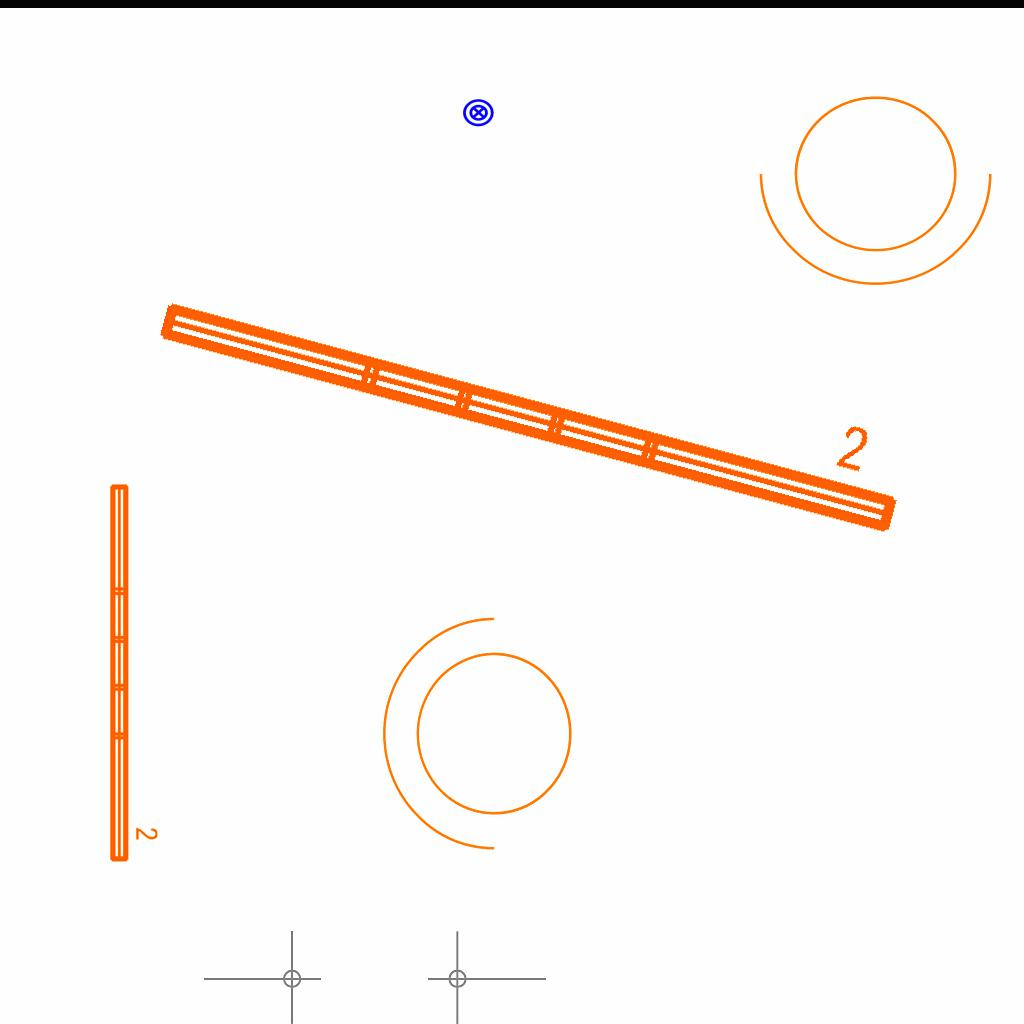Ambulanz_Pendelleuchte_LED: (145, 238, 923, 548), (104, 479, 160, 866)
Scheinwerfer_fuer_Alarmbeleuchtung: (750, 71, 1014, 296), (372, 608, 597, 872)
Taster_beleuchtet: (462, 96, 495, 129)
